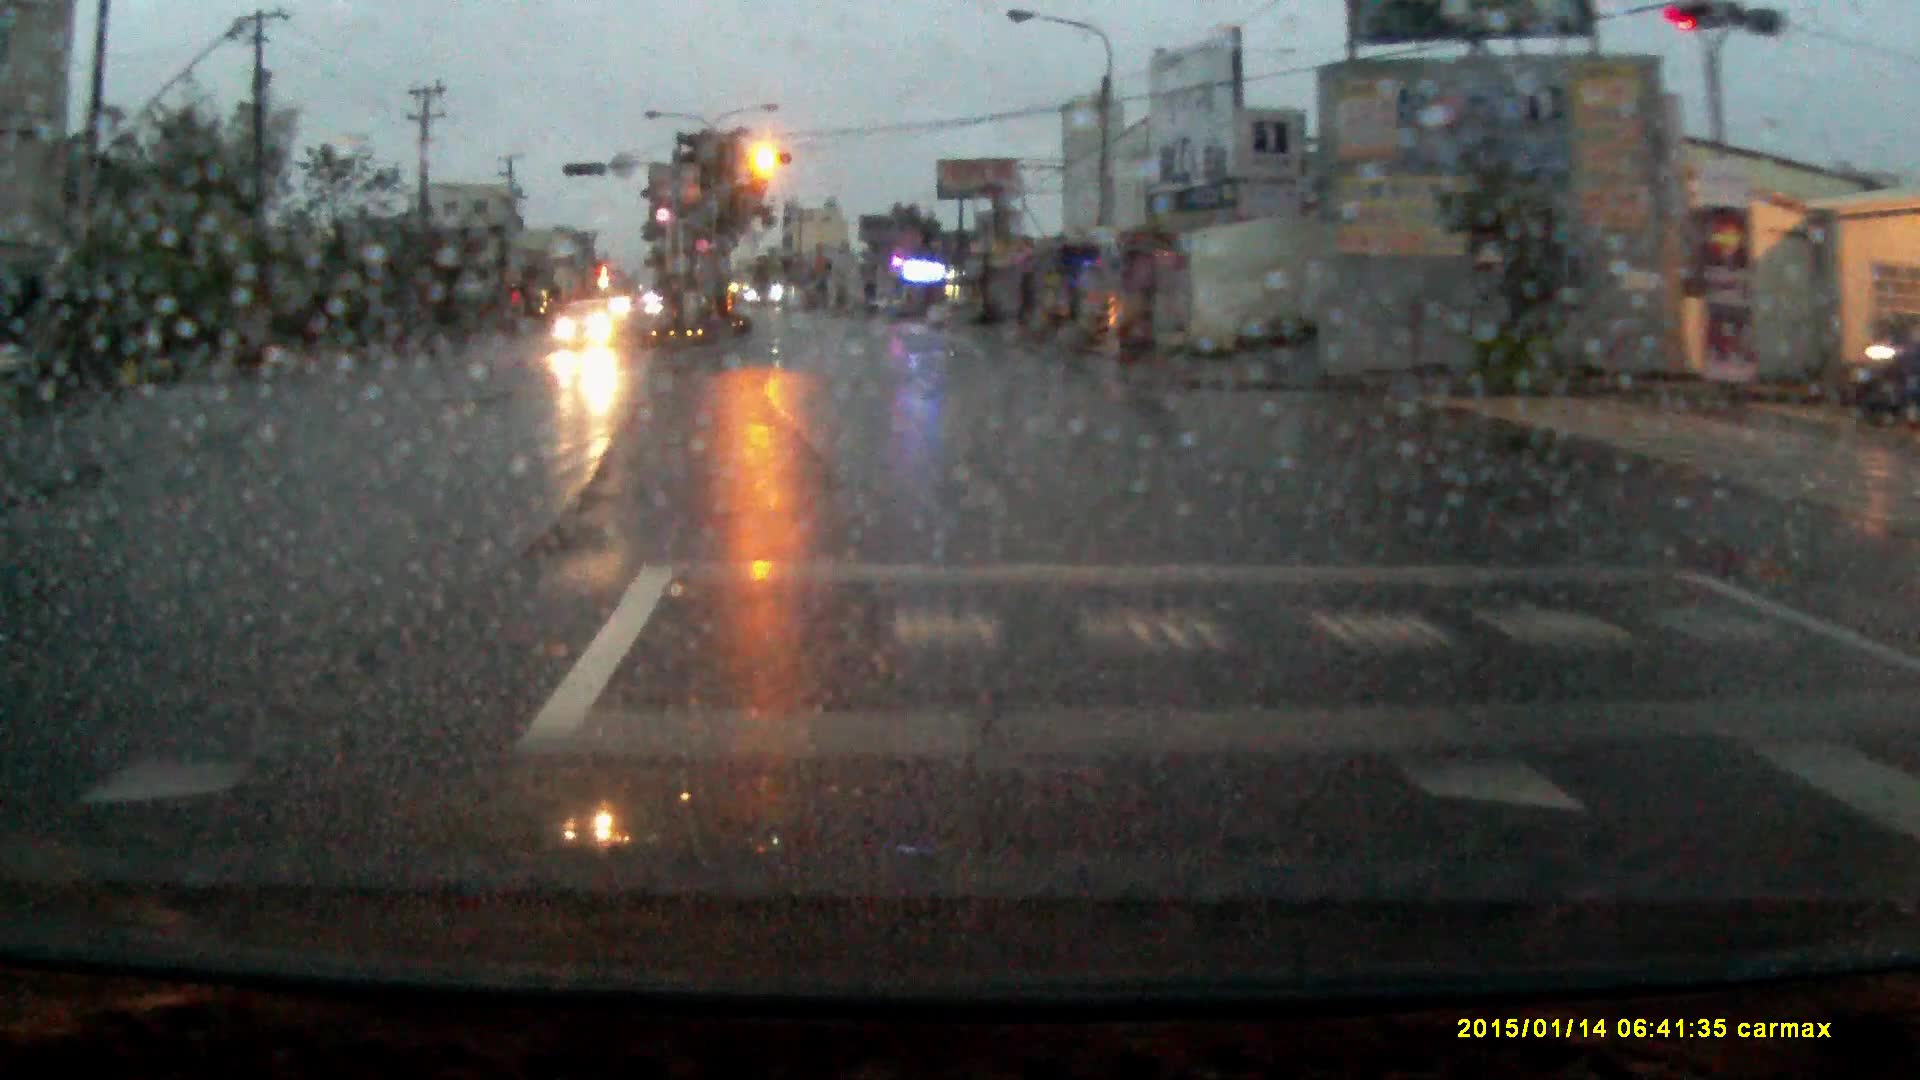rider: (1843, 294, 1920, 420)
vehicle: (551, 298, 620, 348)
